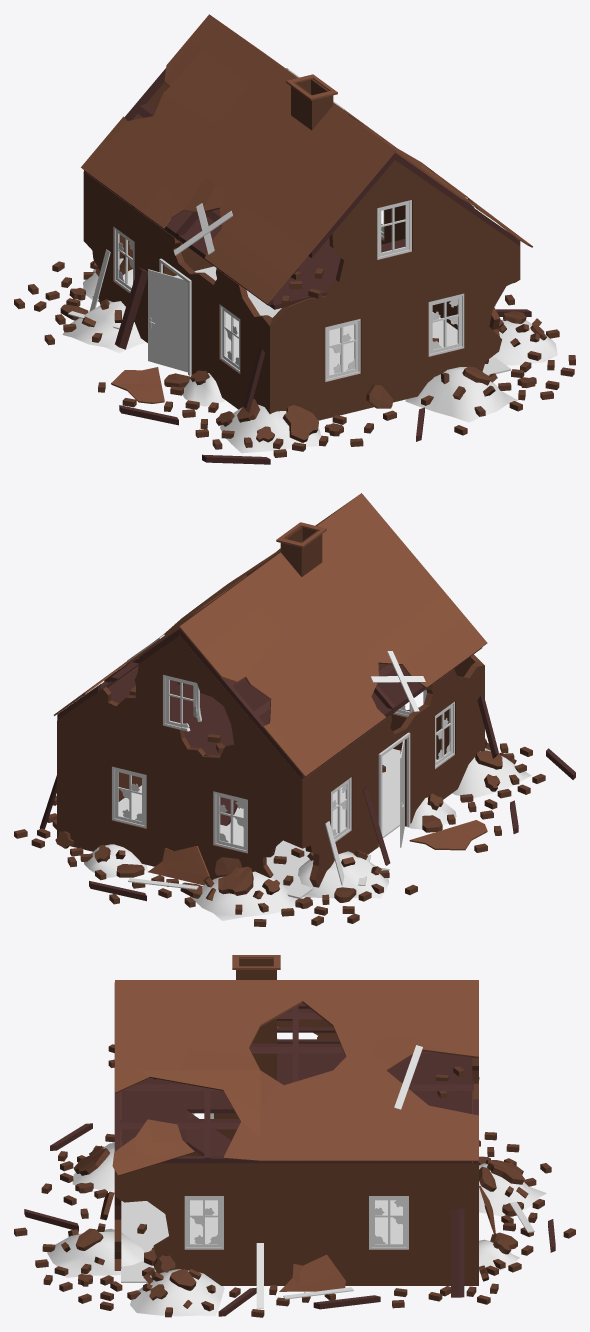
File: House2.fbx
The picture shows the model from 3 angles, top to bottom: view 1: azimuth 30°, elevation 25°; view 2: azimuth 150°, elevation 25°; view 3: azimuth 270°, elevation 25°; orthographic projection. The views are drawn at different scales.
Visible parts, largest first — view 1: Poor House2.002; view 2: Poor House2.002; view 3: Poor House2.002.
Part boxes in pixels (x1=…): Poor House2.002: x1=14, y1=14, x2=575, y2=464; Poor House2.002: x1=14, y1=493, x2=575, y2=926; Poor House2.002: x1=14, y1=955, x2=575, y2=1317.
Size of the model in its own units: 39.75 by 25.06 by 48.32.
